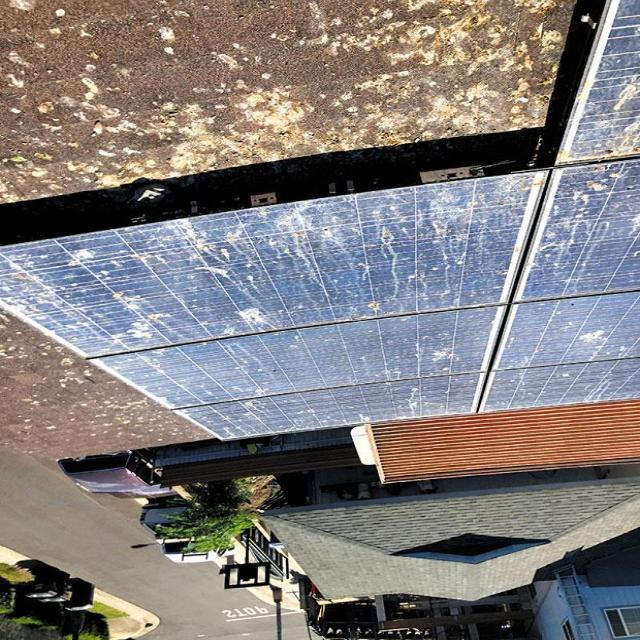soiled: (4, 160, 549, 358), (51, 308, 506, 439), (502, 1, 640, 426)
